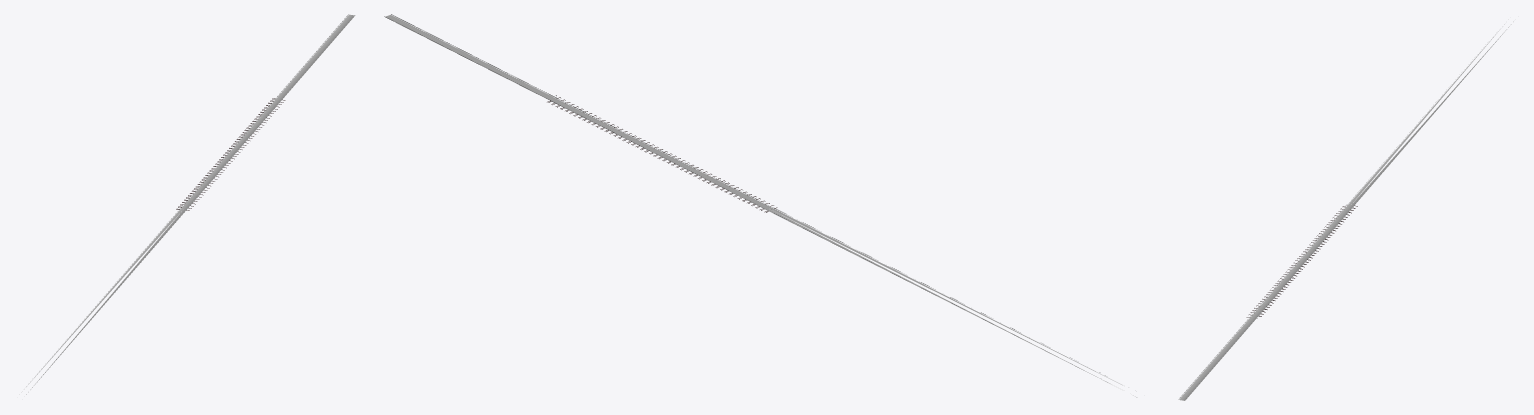
3 renders of one model, left to right at view 1: azimuth 90°, elevation 25°; view 2: azimuth 150°, elevation 25°; view 3: azimuth 270°, elevation 25°, orthographic. The views are drawn at different scales.
Bounding box in the file's own units: 138 × 0.1478 × 51.66.
